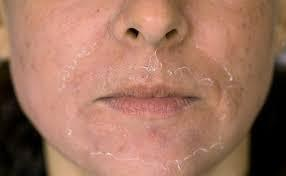Dry-Skin: (61, 110, 226, 165), (122, 49, 201, 85), (53, 40, 98, 91)
